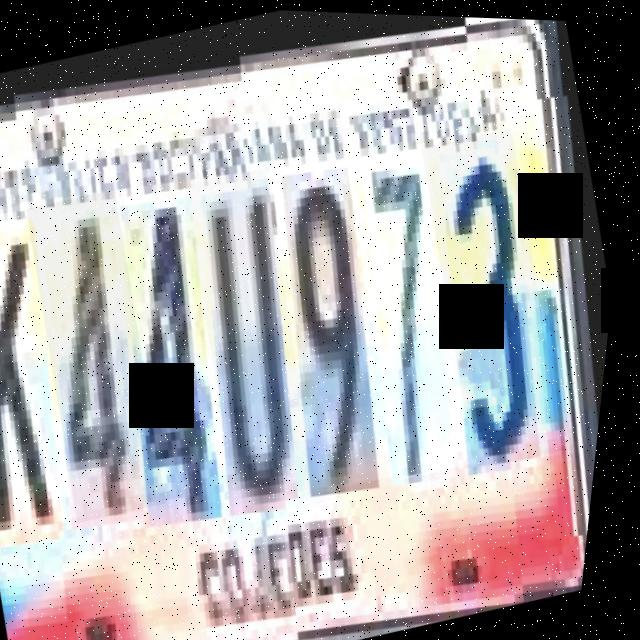3: (399, 121, 599, 468)
4: (81, 173, 281, 519), (5, 185, 202, 524)
7: (323, 136, 513, 479)
9: (242, 148, 437, 493)
K: (0, 199, 121, 537)
U: (162, 161, 356, 505)
